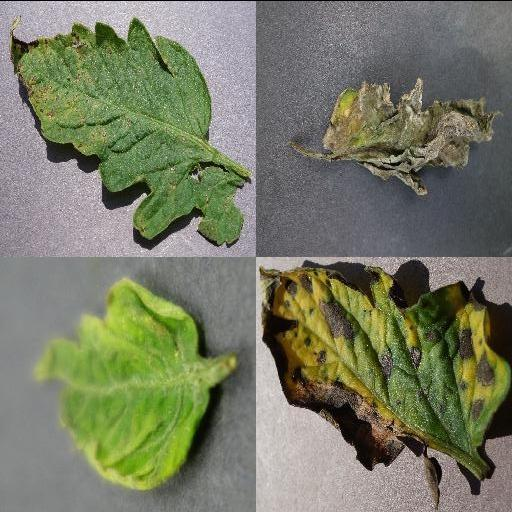Early Blight: (257, 265, 512, 472)
Late Blight: (320, 80, 502, 194)
Septoria: (8, 16, 242, 252)
Yellow Leaf Curl Virus: (34, 277, 210, 489)
